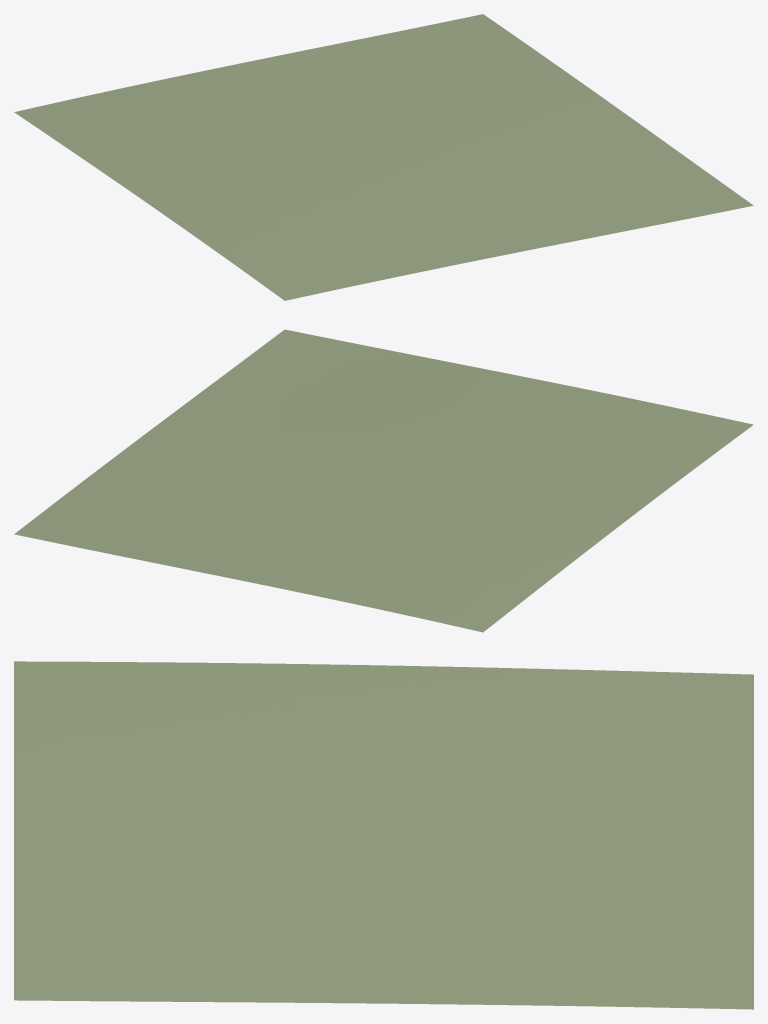
Rendered from expanse-2-23.glb.
The picture shows the model from 3 angles, top to bottom: view 1: azimuth 30°, elevation 25°; view 2: azimuth 150°, elevation 25°; view 3: azimuth 270°, elevation 25°; orthographic projection. The views are drawn at different scales.
Visible parts, largest first — view 1: expanse-2-23; view 2: expanse-2-23; view 3: expanse-2-23.
Boxes of the visible parts, <box> form: expanse-2-23: <box>14,14,753,300</box>; expanse-2-23: <box>14,329,753,632</box>; expanse-2-23: <box>14,661,753,1009</box>.
Bounding box in the file's own units: 256 × 13.5 × 256.
